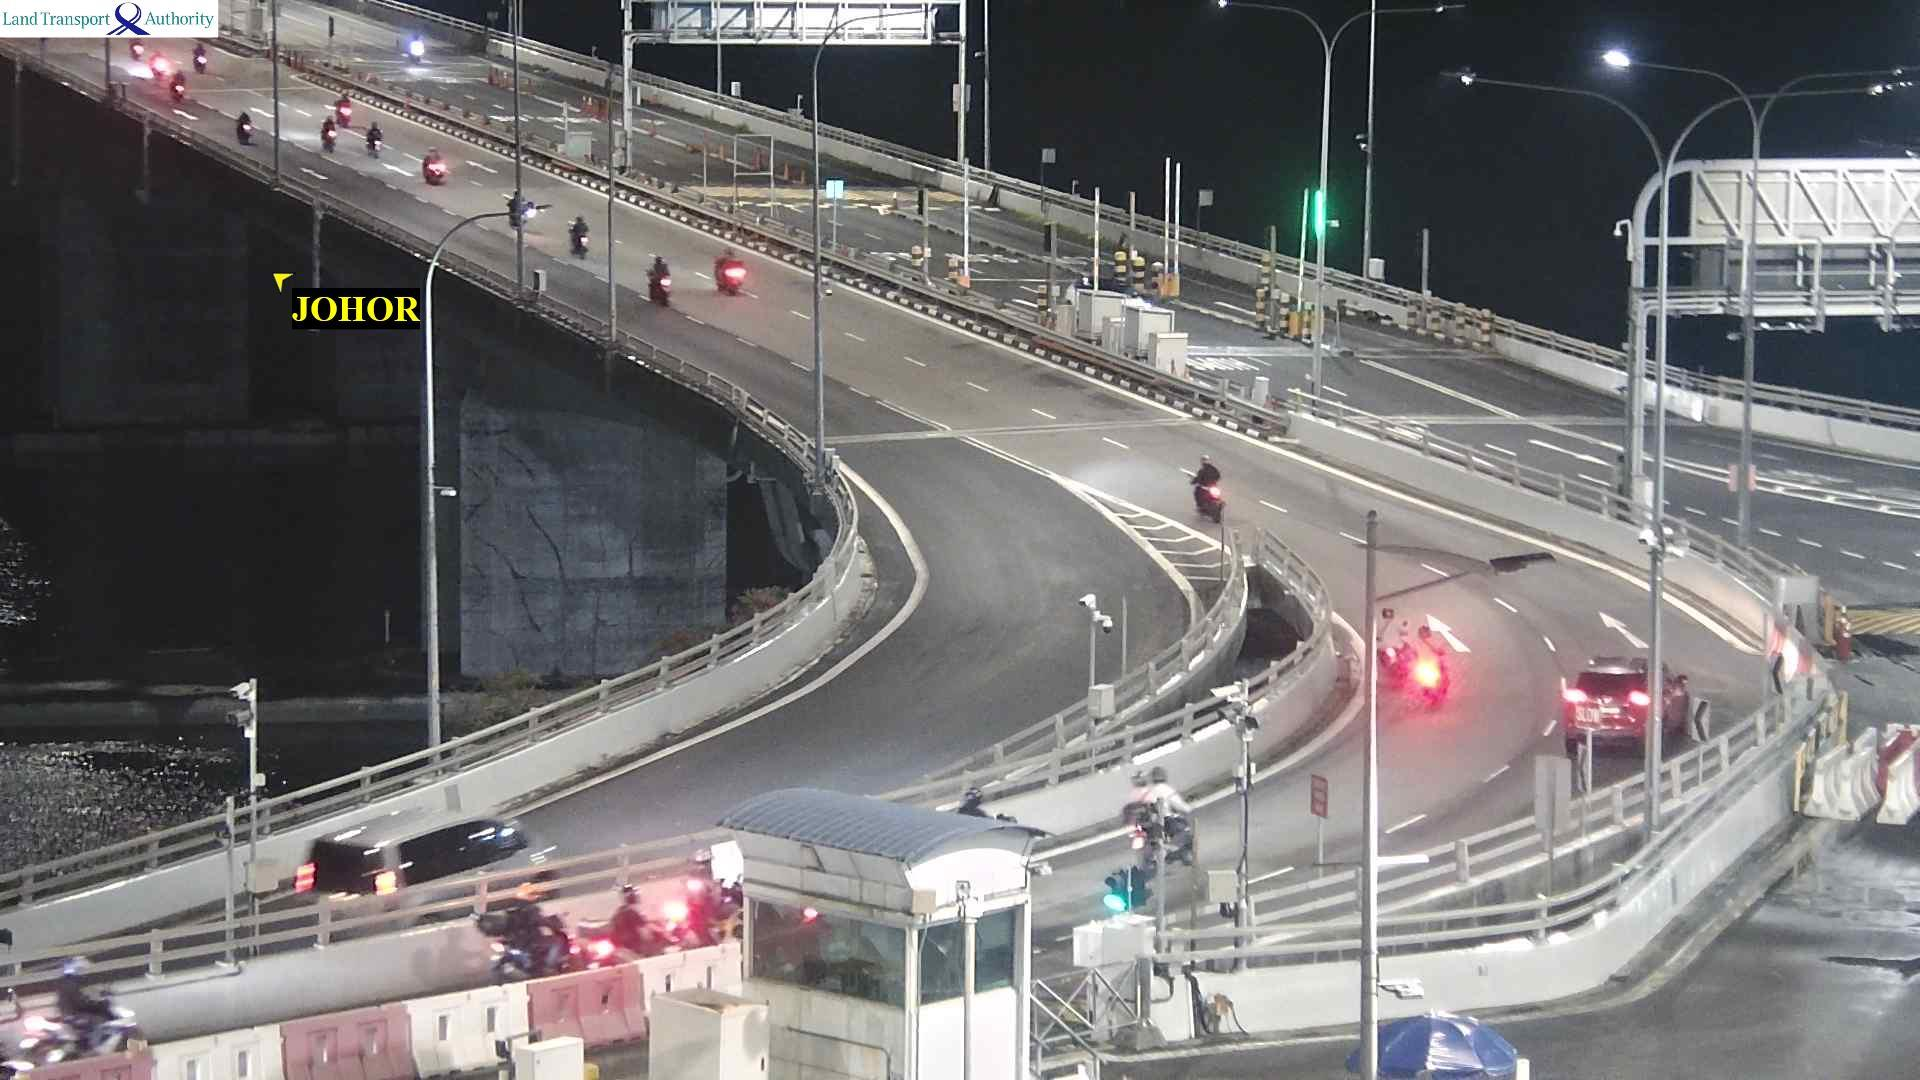vehicle-secondlink-johor: (309, 816, 566, 906), (1571, 659, 1698, 760), (28, 977, 154, 1067), (479, 901, 583, 980), (1131, 774, 1193, 857), (1396, 618, 1448, 709), (596, 884, 650, 960), (687, 858, 733, 944), (1185, 458, 1221, 518), (1197, 459, 1232, 514), (645, 258, 671, 303), (719, 252, 744, 290), (418, 153, 447, 186), (506, 187, 535, 219), (563, 219, 588, 255), (320, 112, 342, 141), (233, 113, 253, 142), (195, 44, 214, 74), (330, 98, 351, 124), (361, 125, 381, 153), (175, 75, 193, 102)
